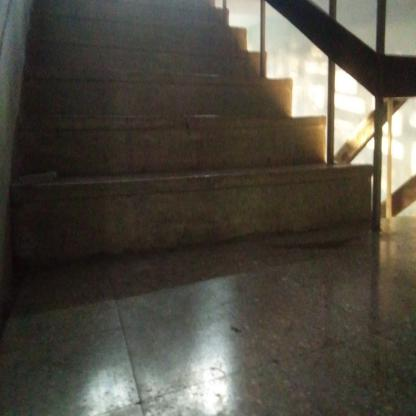stairs: (26, 69, 375, 233)
